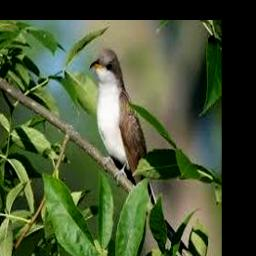Cuckoo: (89, 49, 160, 215)
